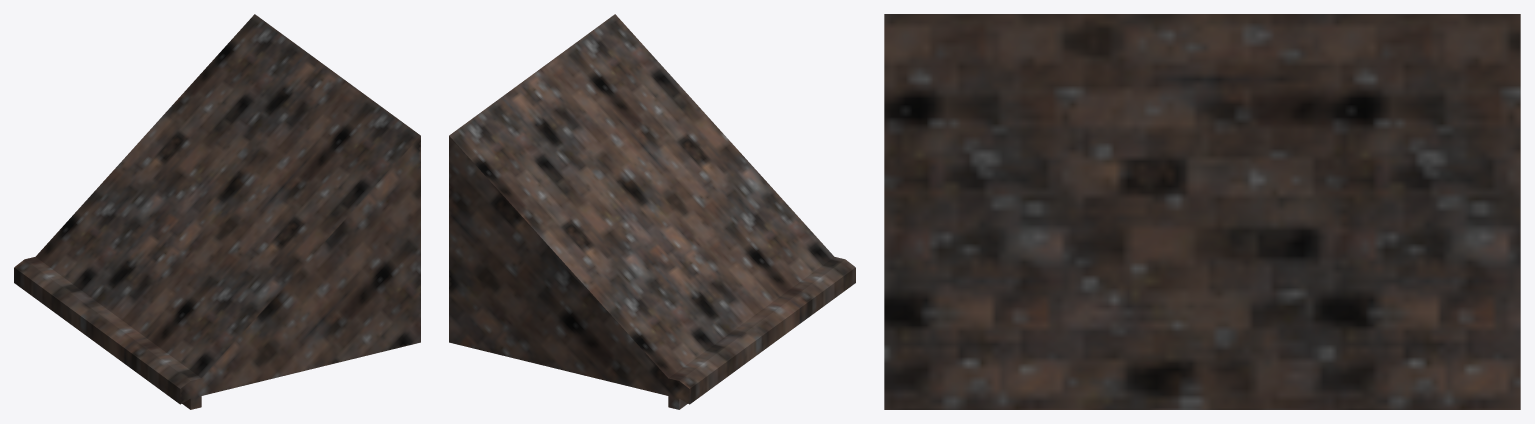
Rendered from Straight Roof Side.fbx.
The picture shows the model from 3 angles, left to right: view 1: azimuth 30°, elevation 25°; view 2: azimuth 150°, elevation 25°; view 3: azimuth 270°, elevation 25°; orthographic projection. The views are drawn at different scales.
Parts seen in each view (by area): view 1: Telhado Reto Lado; view 2: Telhado Reto Lado; view 3: Telhado Reto Lado.
Part boxes in pixels (left/top/right/bottom): Telhado Reto Lado: left=14, top=14, right=420, bottom=409; Telhado Reto Lado: left=449, top=14, right=855, bottom=409; Telhado Reto Lado: left=884, top=14, right=1520, bottom=409.
Size of the model in its own units: 233 by 201 by 278.
